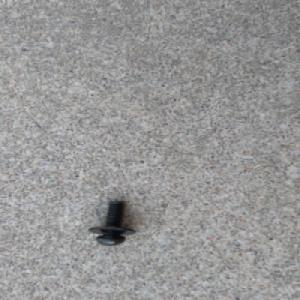BoltWasher: (86, 198, 137, 245)
